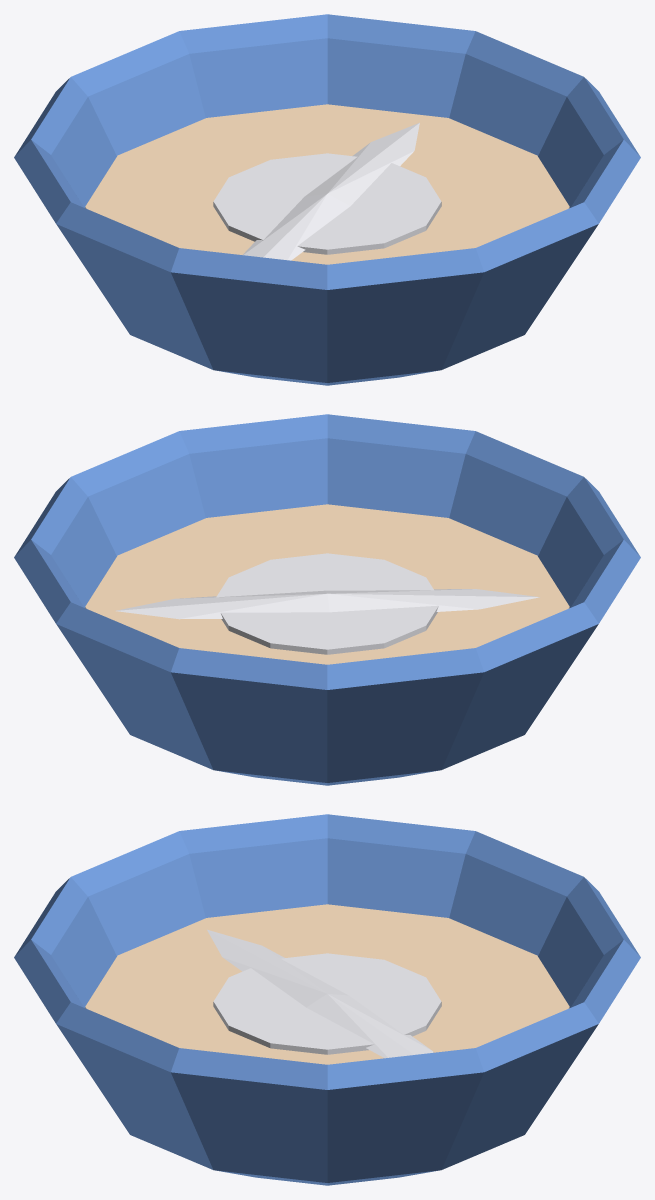
Rendered from batter-mixed.glb.
3 views of the same model, one above another, from view 1: azimuth 30°, elevation 25°; view 2: azimuth 150°, elevation 25°; view 3: azimuth 270°, elevation 25° (orthographic).
Visible parts, largest first — view 1: batter-mixed; view 2: batter-mixed; view 3: batter-mixed.
Boxes of the visible parts, x1,y1,x2,y2 form: batter-mixed: [14, 14, 640, 385]; batter-mixed: [14, 414, 640, 785]; batter-mixed: [14, 814, 640, 1185].
Size of the model in its own units: 0.22 by 0.072 by 0.22.
Materials: 1 (1 with a texture image).
